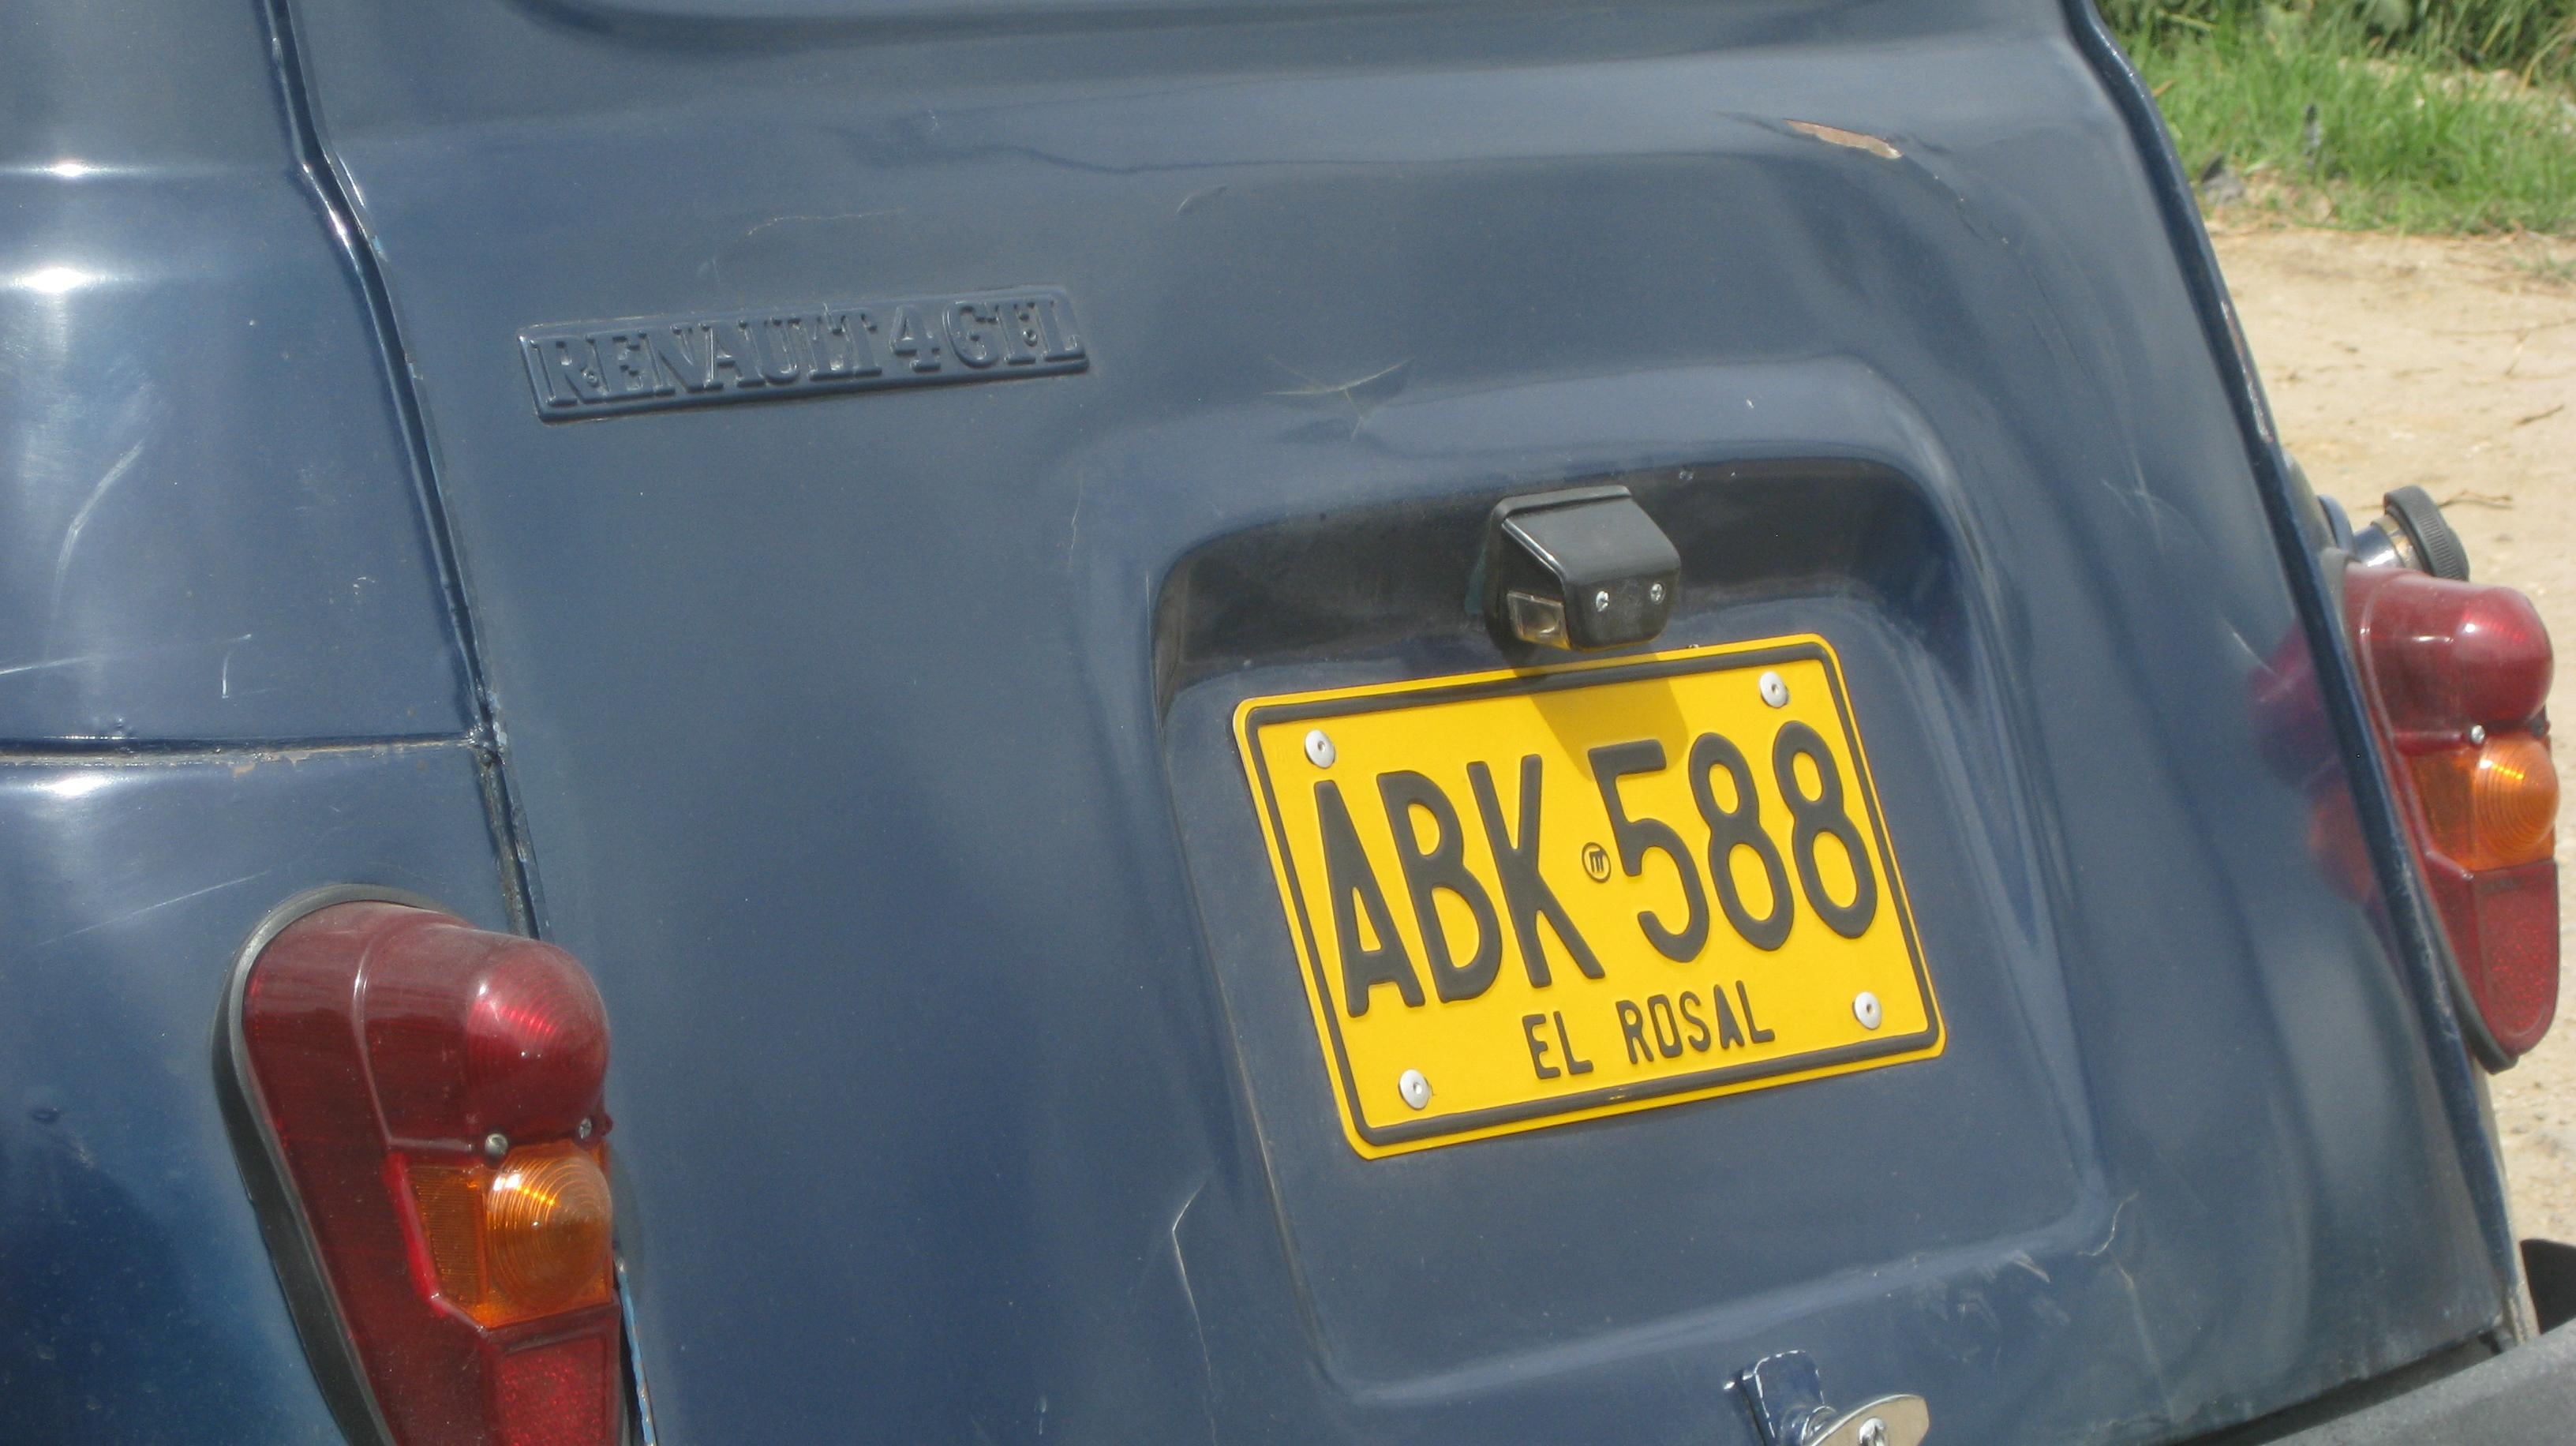placas: (1223, 620, 1957, 1173)
